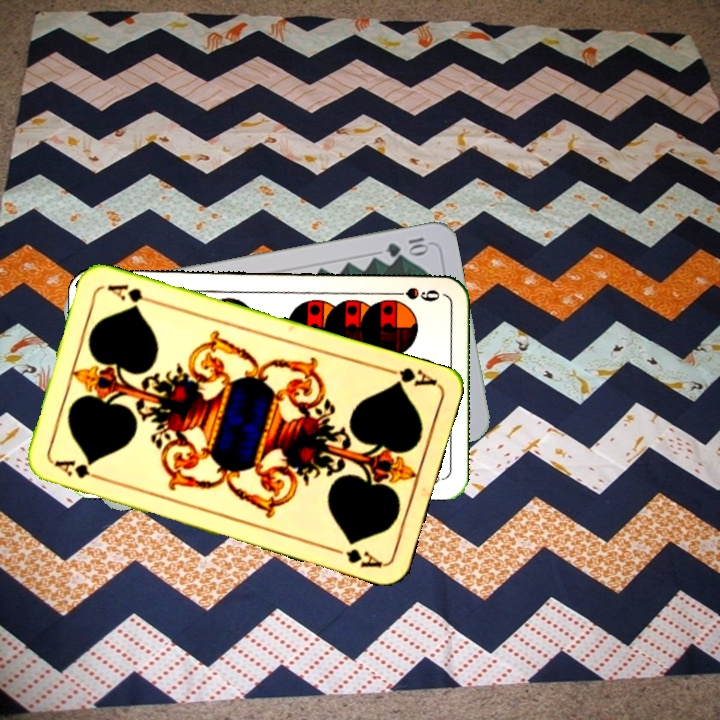G10: (382, 233, 431, 260)
GA: (50, 456, 107, 484), (380, 363, 439, 389)
S9: (383, 283, 442, 304)
